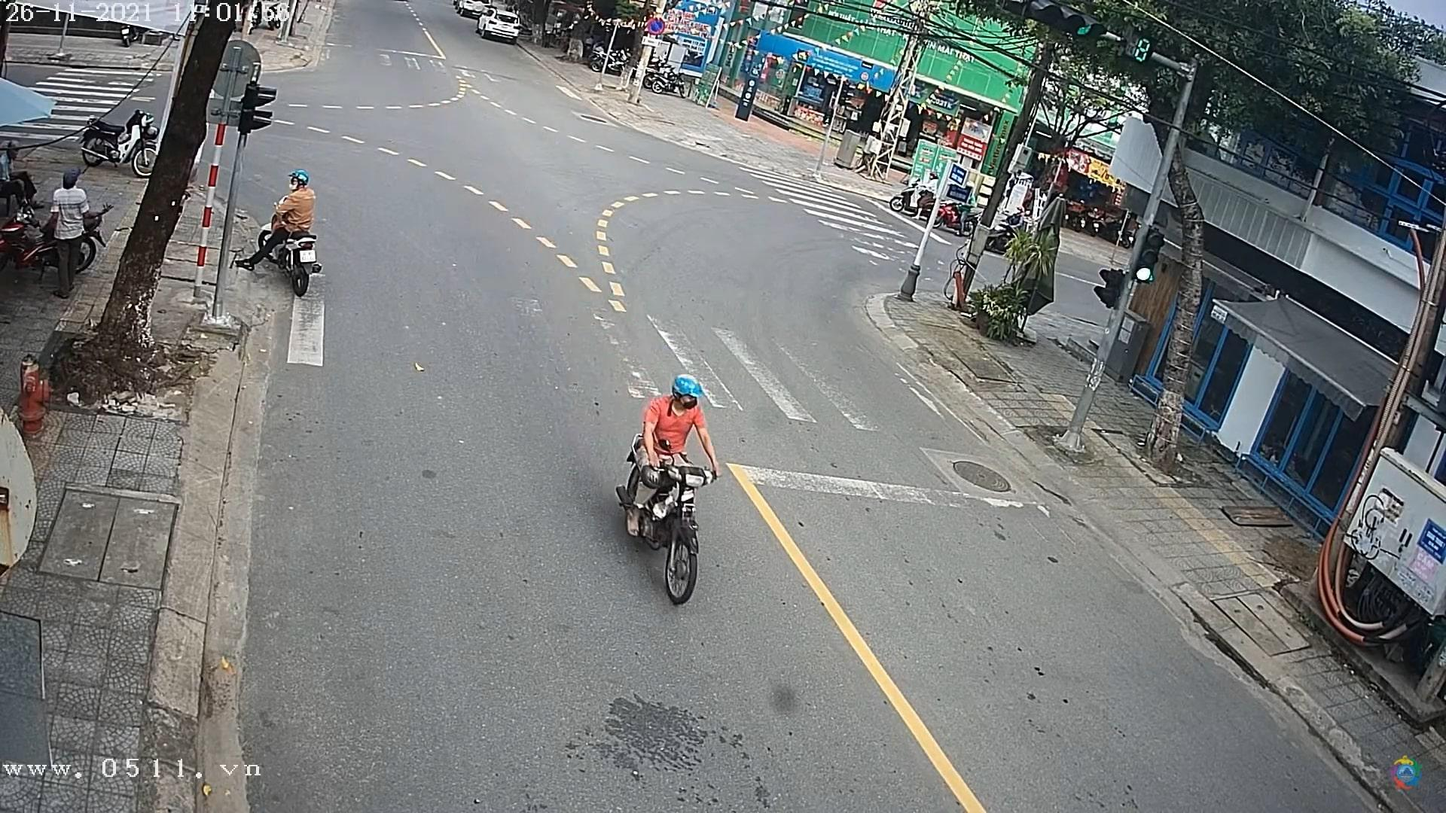car: (453, 2, 497, 20)
motorbike: (615, 434, 717, 608), (261, 213, 328, 301)
